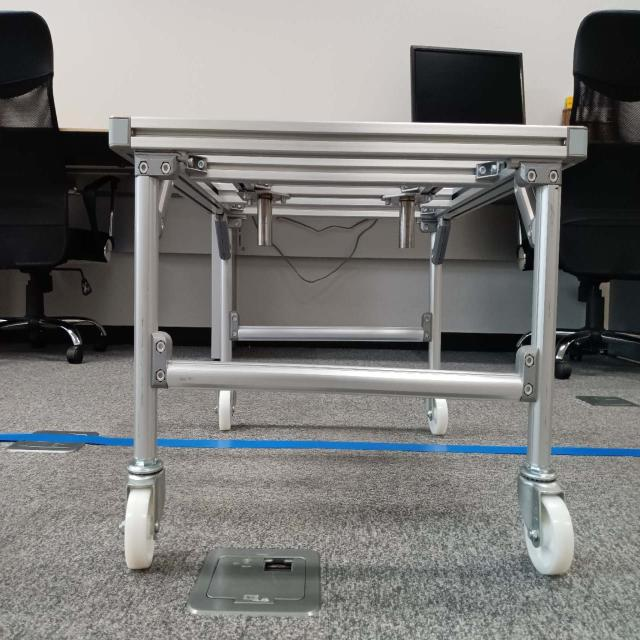side: (133, 113, 562, 400)
